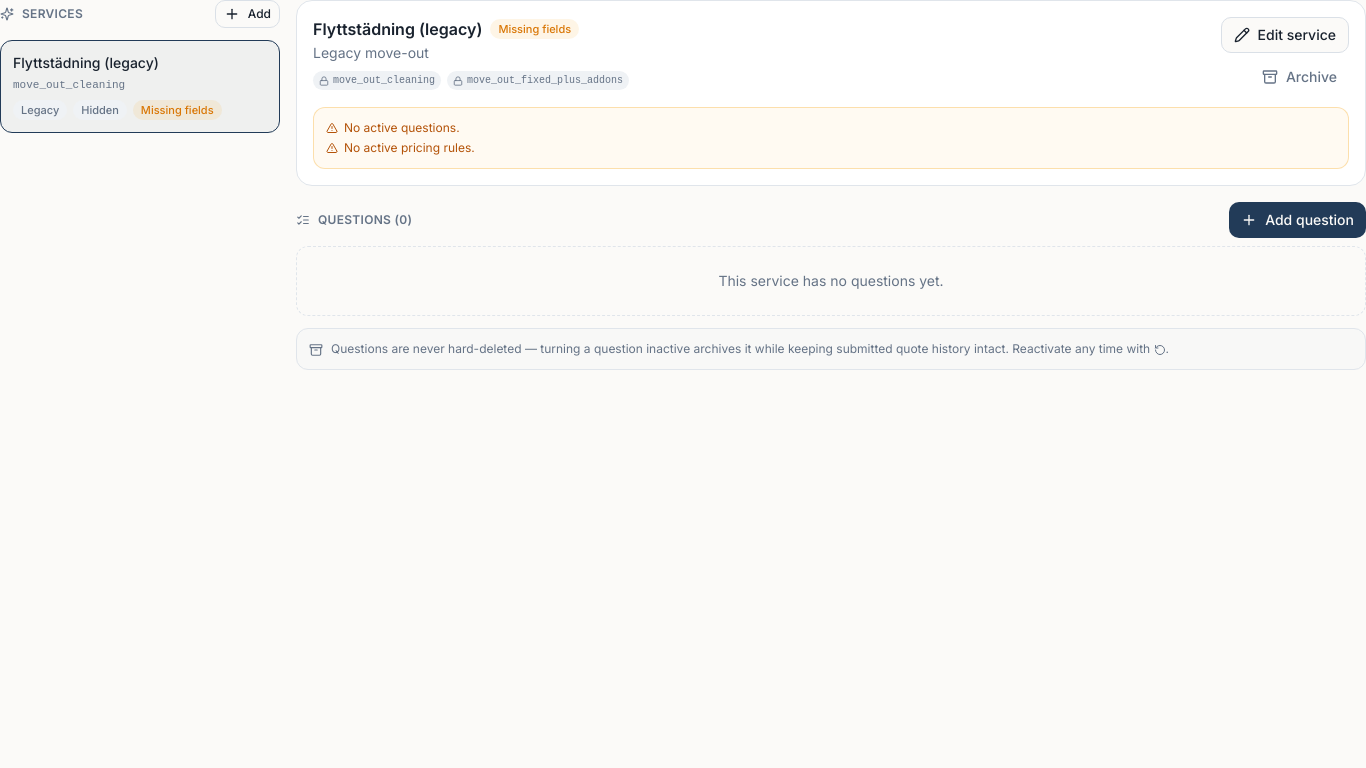
Scenario: ServicesFieldsEditor — GPM-8 sqm_fixed enable/public guard alignment › leaves an engine-backed legacy model's enable switch unlocked even when incomplete (unchanged behaviour)
Step 1. Click the button "Edit service" → (1285, 35), box [1221,17,1349,53]
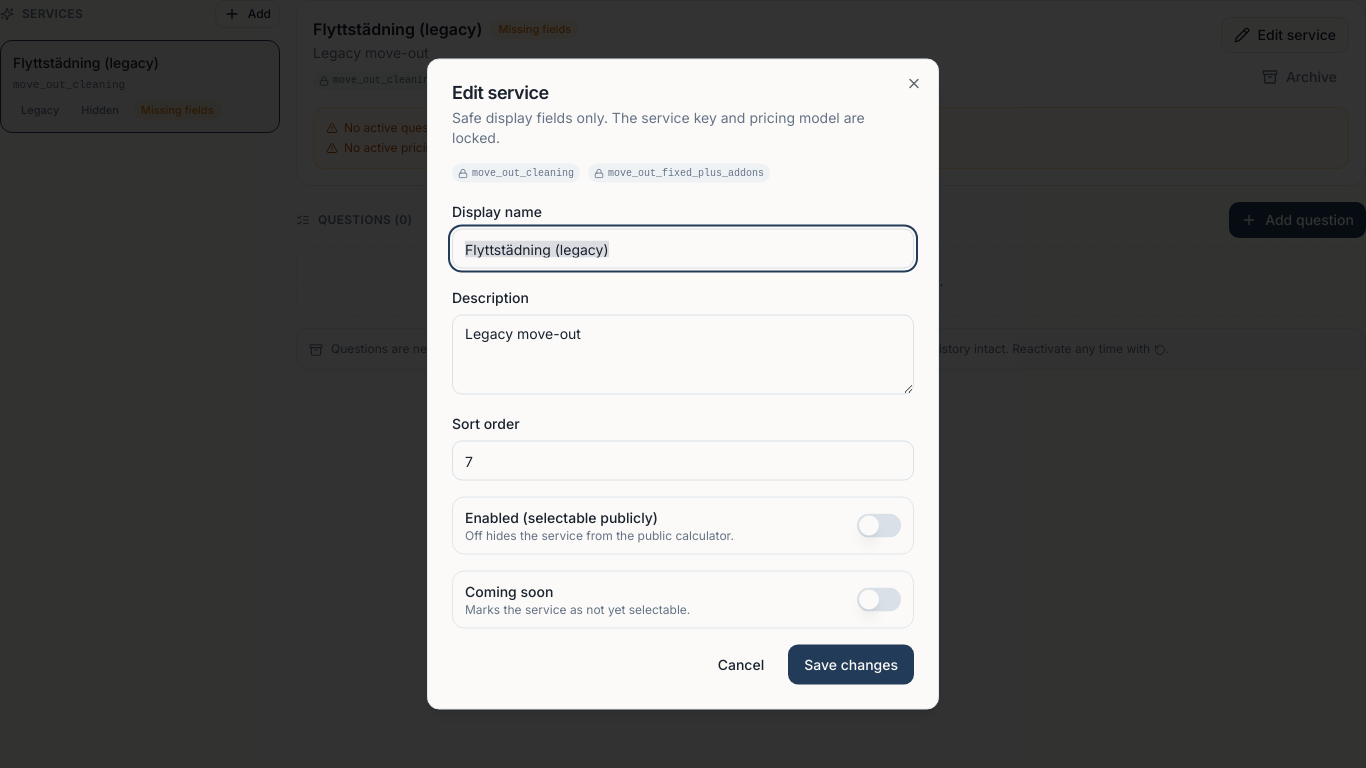
Expected: the switch named "Service enabled" is enabled, [857,514,901,538]
